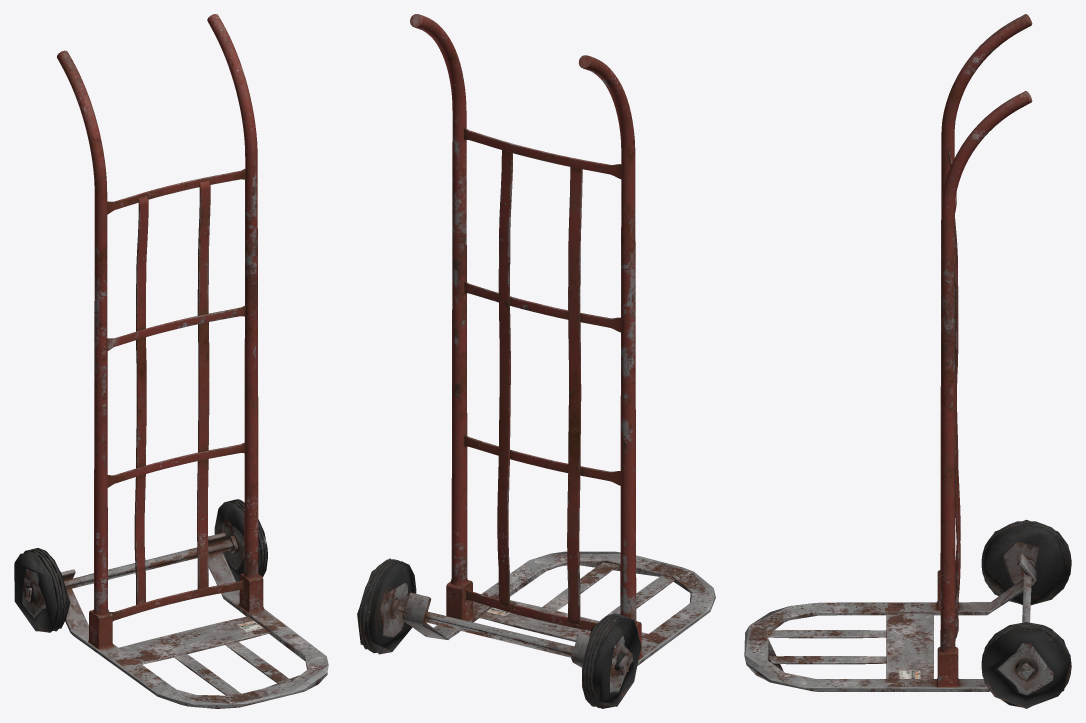
3 views of the same model, side by side, from view 1: azimuth 30°, elevation 25°; view 2: azimuth 150°, elevation 25°; view 3: azimuth 270°, elevation 25° (orthographic). The views are drawn at different scales.
Parts seen in each view (by area): view 1: hand_truck; view 2: hand_truck; view 3: hand_truck.
Part boxes in pixels (box(x1,y1,x2,y2)): hand_truck: box(14, 14, 328, 708); hand_truck: box(357, 14, 715, 708); hand_truck: box(744, 14, 1071, 708).
Bounding box in the file's own units: 0.5933 × 1.4 × 0.6922.
1 material, 1 textured.
